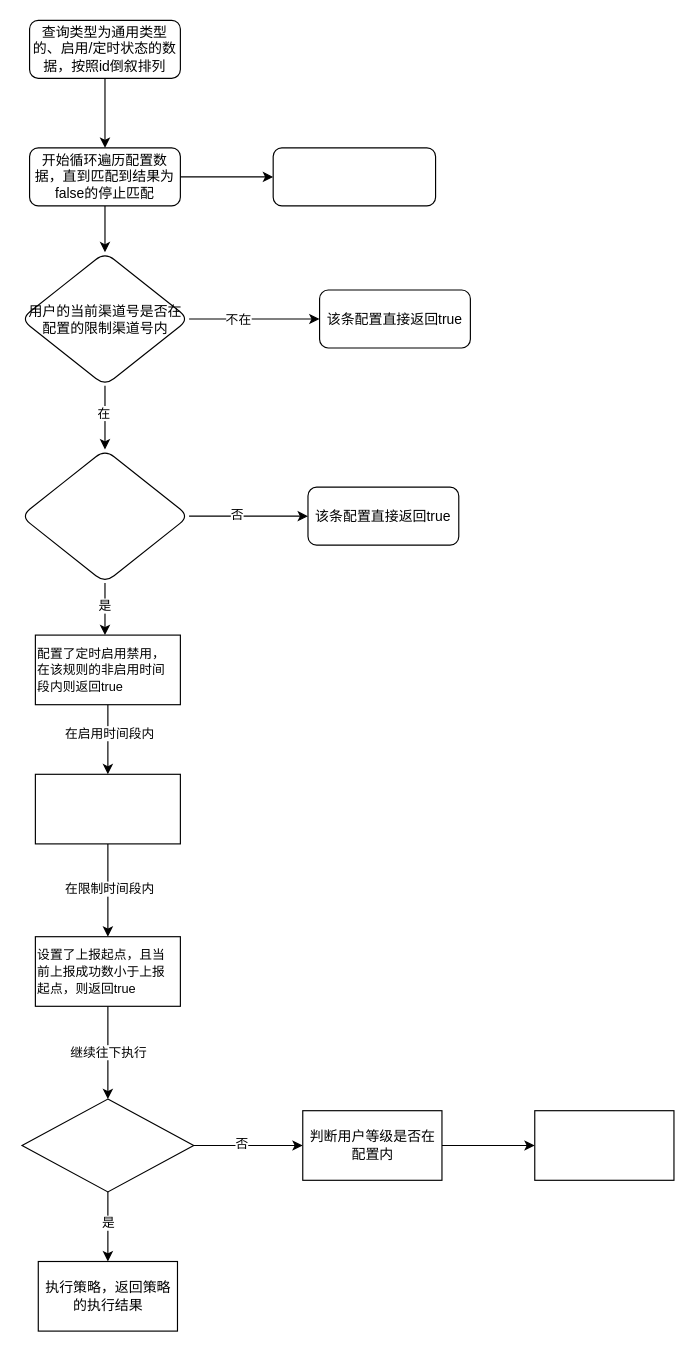
The diagram is 694 pixels wide and 1351 high, and some of its shapes have lost their labels. The shapes that lost their labels are listed below. From the top down, each one's centre as x and y in pixels, then its label:
At [354,176]: "能匹配到false，则扣量； 否则不扣量".
At [104,515]: "是否是授信、预授信节点".
At [107,808]: "配置了定时启动， 且不在限制时段则 返回true".
At [107,1145]: "是否配了策略".
At [604,1145]: "不在则返回false，否则返回true".
